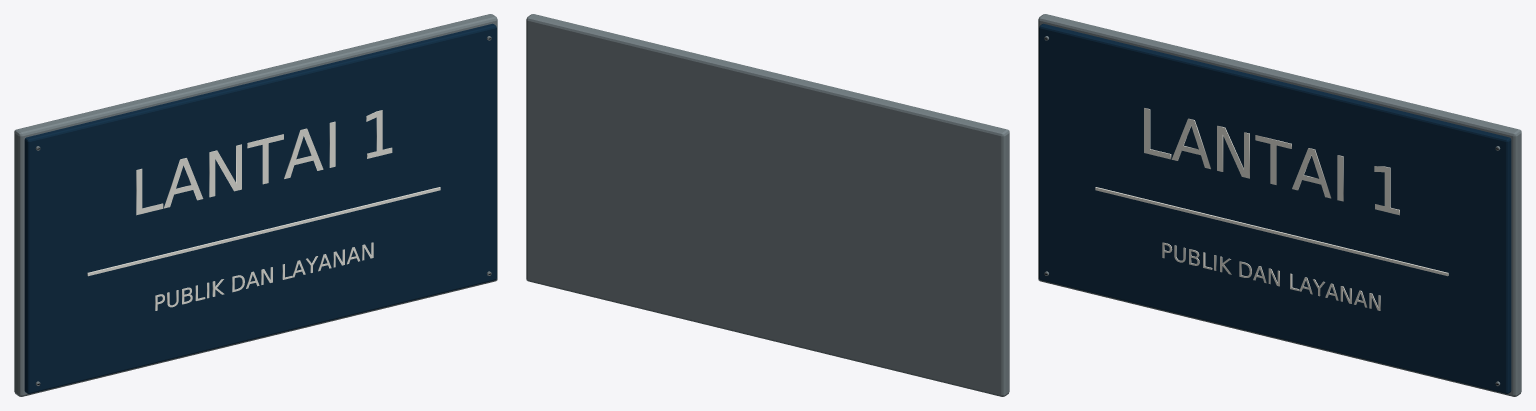
The model's file is OAA_Papan_Lantai_01.fbx.
3 renders of one model, left to right at view 1: azimuth 30°, elevation 25°; view 2: azimuth 150°, elevation 25°; view 3: azimuth 330°, elevation 25°, orthographic.
Parts seen in each view (by area): view 1: Body; view 2: Body; view 3: Body.
Boxes of the visible parts, x1,y1,x2,y2 form: Body: (14,14,497,396); Body: (526,14,1009,396); Body: (1038,14,1521,396).
Bounding box in the file's own units: 0.72 × 0.38 × 0.0315.
